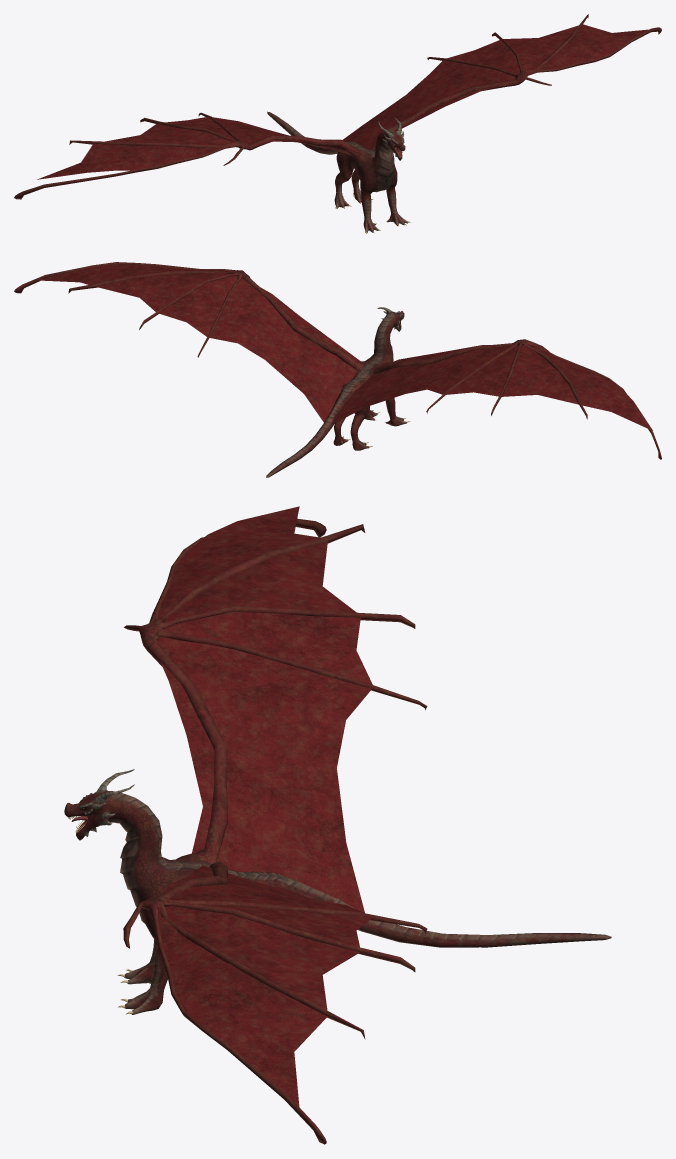
File: dragon.fbx
3 views of the same model, one above another, from view 1: azimuth 30°, elevation 25°; view 2: azimuth 150°, elevation 25°; view 3: azimuth 270°, elevation 25° (orthographic). The views are drawn at different scales.
Visible parts, largest first — view 1: Plane.001, Cylinder.026; view 2: Plane.001, Cylinder.026; view 3: Plane.001, Cylinder.026.
Part boxes in pixels (x1,y1,x2,y2): Plane.001: (37, 24, 648, 179); Cylinder.026: (14, 14, 661, 233); Plane.001: (38, 264, 652, 430); Cylinder.026: (14, 262, 661, 477); Plane.001: (157, 506, 372, 1106); Cylinder.026: (64, 518, 611, 1144).
Bounding box in the file's own units: 4333 × 766 × 1584.
